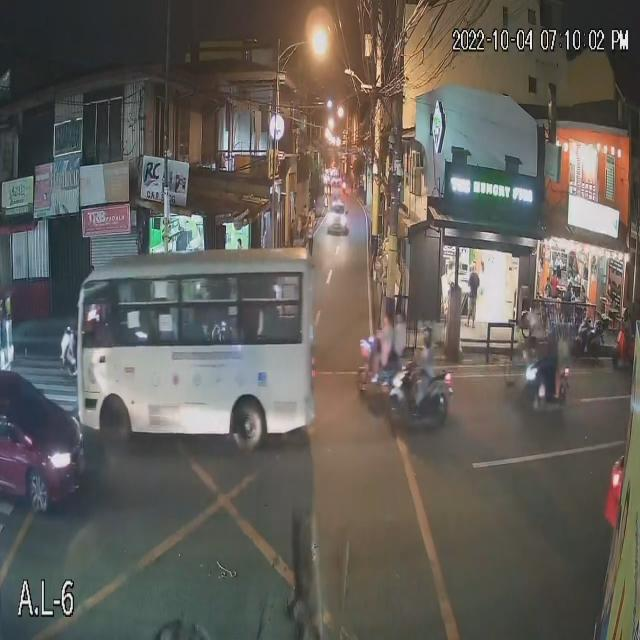helmet: (418, 326, 435, 347)
motorcycle: (387, 357, 455, 430), (521, 361, 571, 414)
rider: (408, 346, 435, 417), (555, 342, 572, 400), (542, 341, 557, 399)
